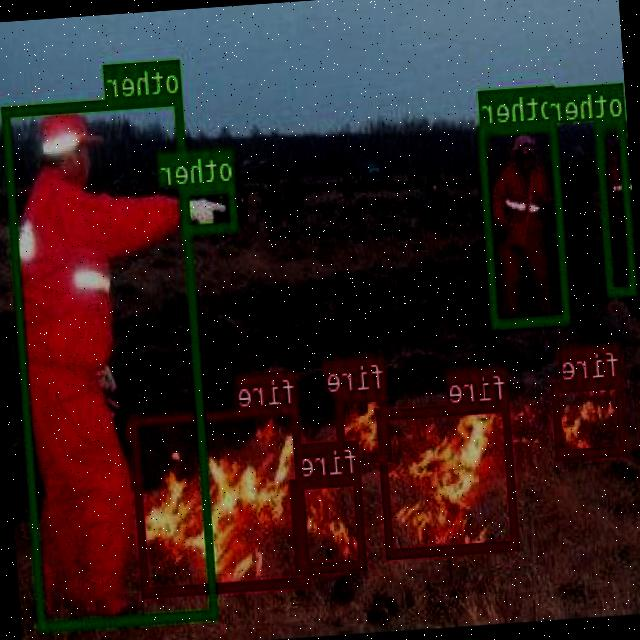fire: (131, 402, 312, 594), (377, 400, 520, 558), (292, 473, 368, 572), (552, 376, 628, 458), (335, 388, 393, 462)
